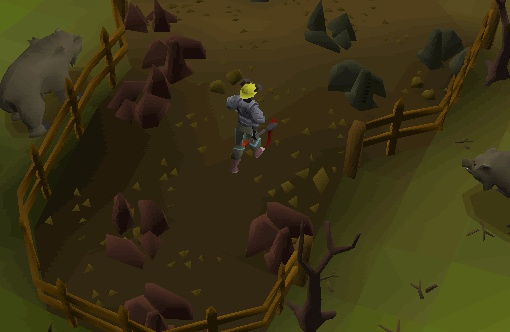coal: (318, 52, 405, 118), (414, 21, 479, 84)
iron: (231, 194, 324, 280), (88, 185, 181, 271), (93, 56, 186, 142)
